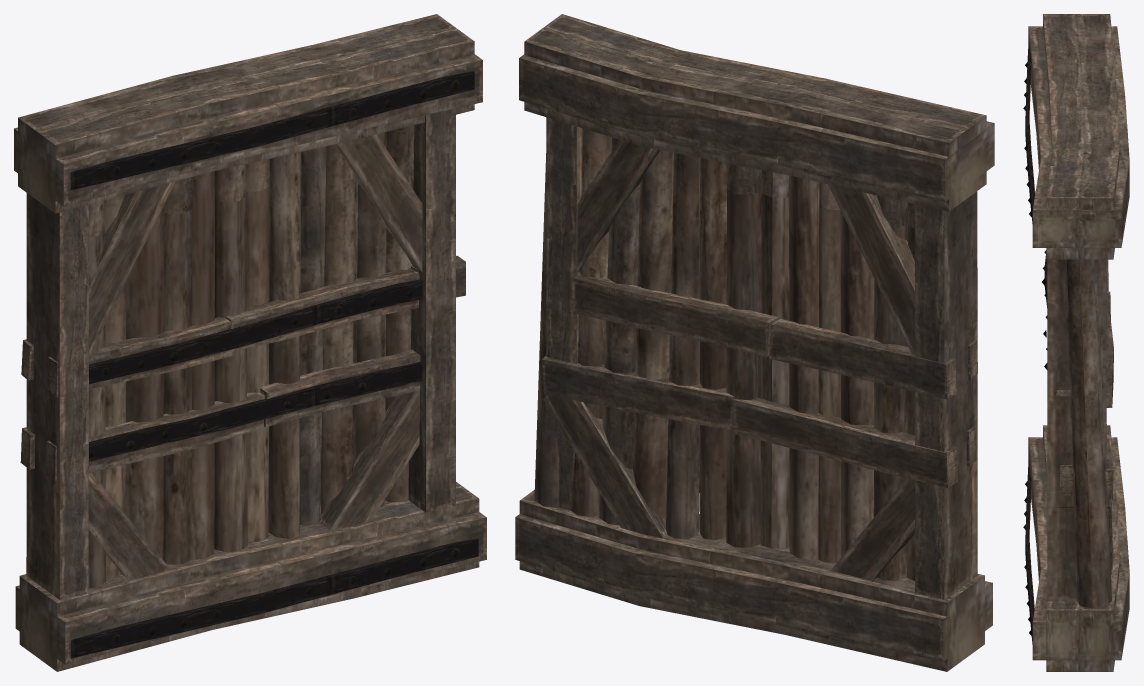
File: jav_struc_def_truestone_walla_toponly_half-transformed.glb
The picture shows the model from 3 angles, left to right: view 1: azimuth 30°, elevation 25°; view 2: azimuth 150°, elevation 25°; view 3: azimuth 270°, elevation 25°; orthographic projection. The views are drawn at different scales.
Visible parts, largest first — view 1: default; view 2: default; view 3: default.
Boxes of the visible parts, x1,y1,x2,y2 form: default: [14, 14, 486, 671]; default: [515, 14, 994, 671]; default: [1023, 14, 1129, 671].
Size of the model in its own units: 4.47 by 5.33 by 1.08.
Materials: 1 (1 with a texture image).
